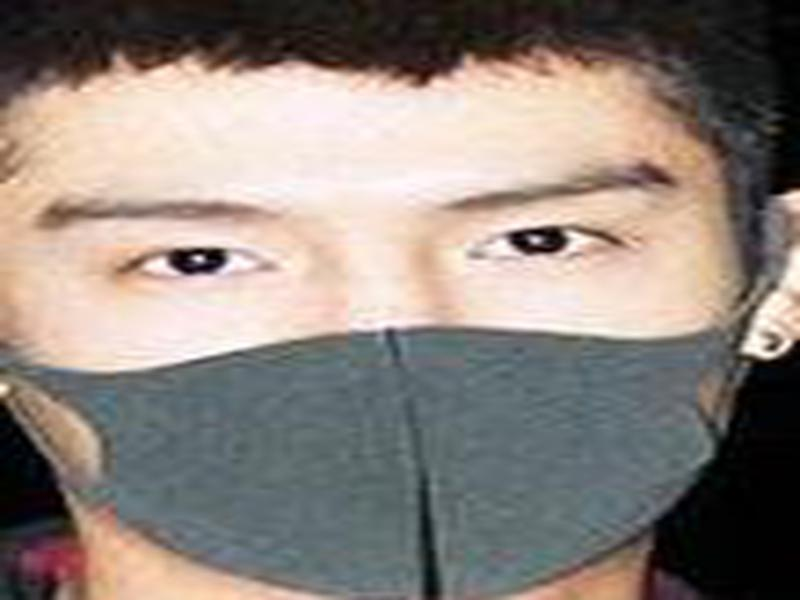with_mask: (1, 47, 774, 594)
